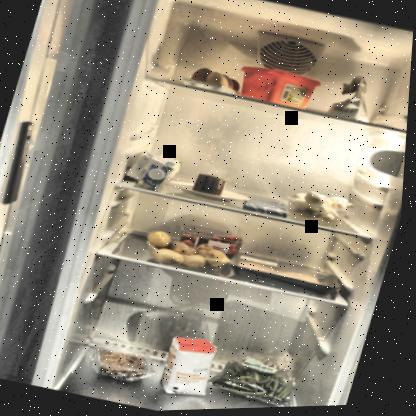butter: (234, 61, 325, 115)
cheese: (192, 172, 233, 201)
chicken: (228, 253, 328, 297)
chocolate: (238, 193, 291, 220)
eggs: (189, 65, 245, 98)
green_beans: (209, 348, 317, 410)
milk: (121, 147, 183, 192)
mushrooms: (283, 186, 358, 232)
potato: (142, 229, 241, 281)
shrimp: (95, 343, 159, 386)
strawberries: (172, 223, 244, 266)
